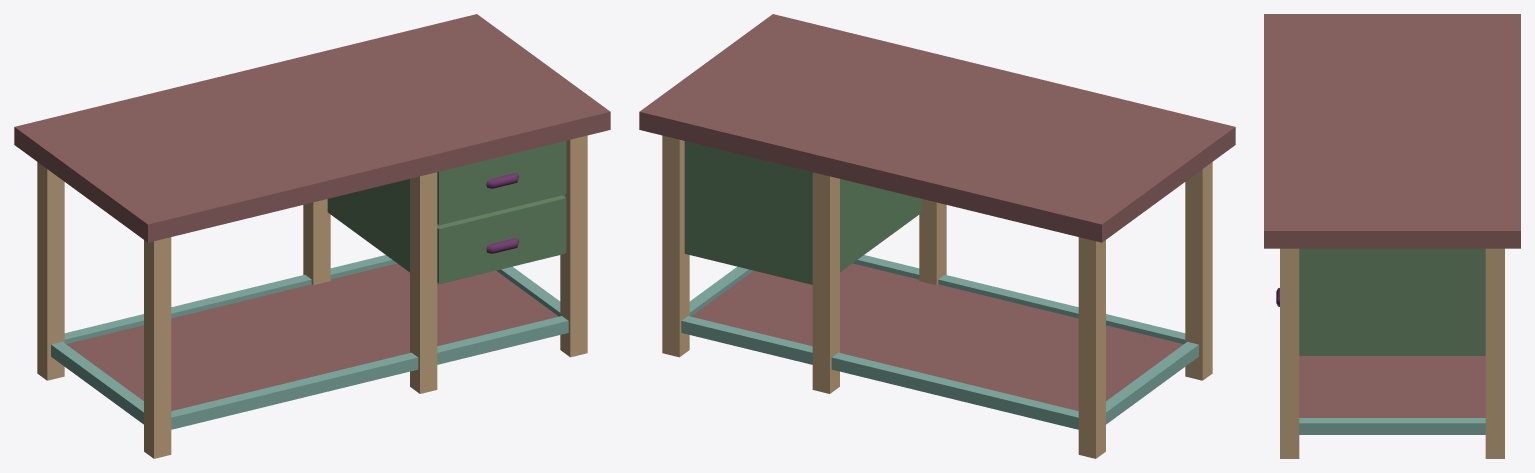
The model's file is Workdesk.fbx.
3 renders of one model, left to right at view 1: azimuth 30°, elevation 25°; view 2: azimuth 150°, elevation 25°; view 3: azimuth 270°, elevation 25°, orthographic. The views are drawn at different scales.
Parts seen in each view (by area): view 1: WorkDesk; view 2: WorkDesk; view 3: WorkDesk.
Boxes of the visible parts, x1=… form: WorkDesk: x1=14, y1=14, x2=610, y2=458; WorkDesk: x1=639, y1=14, x2=1235, y2=458; WorkDesk: x1=1264, y1=14, x2=1520, y2=458.
Bounding box in the file's own units: 40 × 20.16 × 20.
